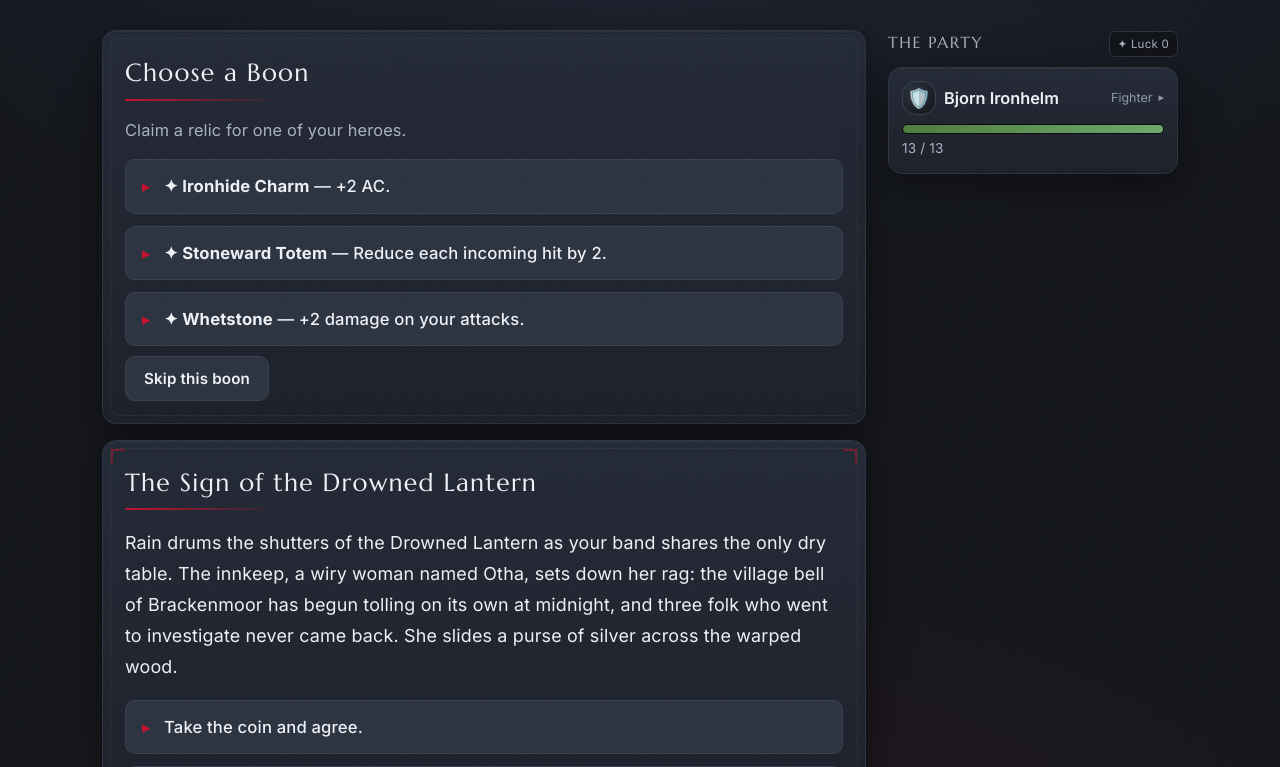
Test: GameScreen › a pending draft grants a relic to a chosen hero
Check: the heading "Choose a Boon" is shown, box [125,57,310,88]
What coordinates should you click on to do the following:
click the button "✦ Ironhide Charm — +2 AC."
I would click on:
 (246, 186)
Its box is [125,159,843,214].
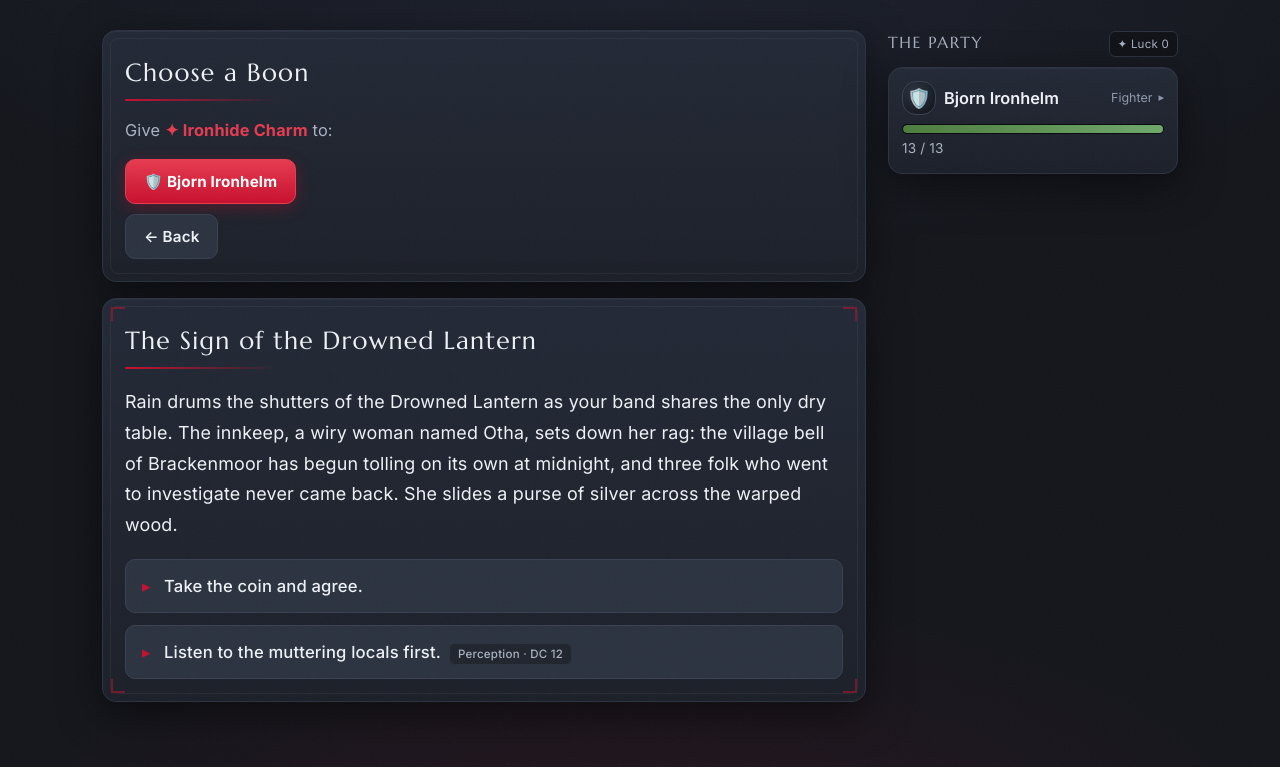
What coordinates should you click on to do the following:
click the button "🛡️ Bjorn Ironhelm"
I would click on:
 (211, 182)
Its box is [125,159,296,204].
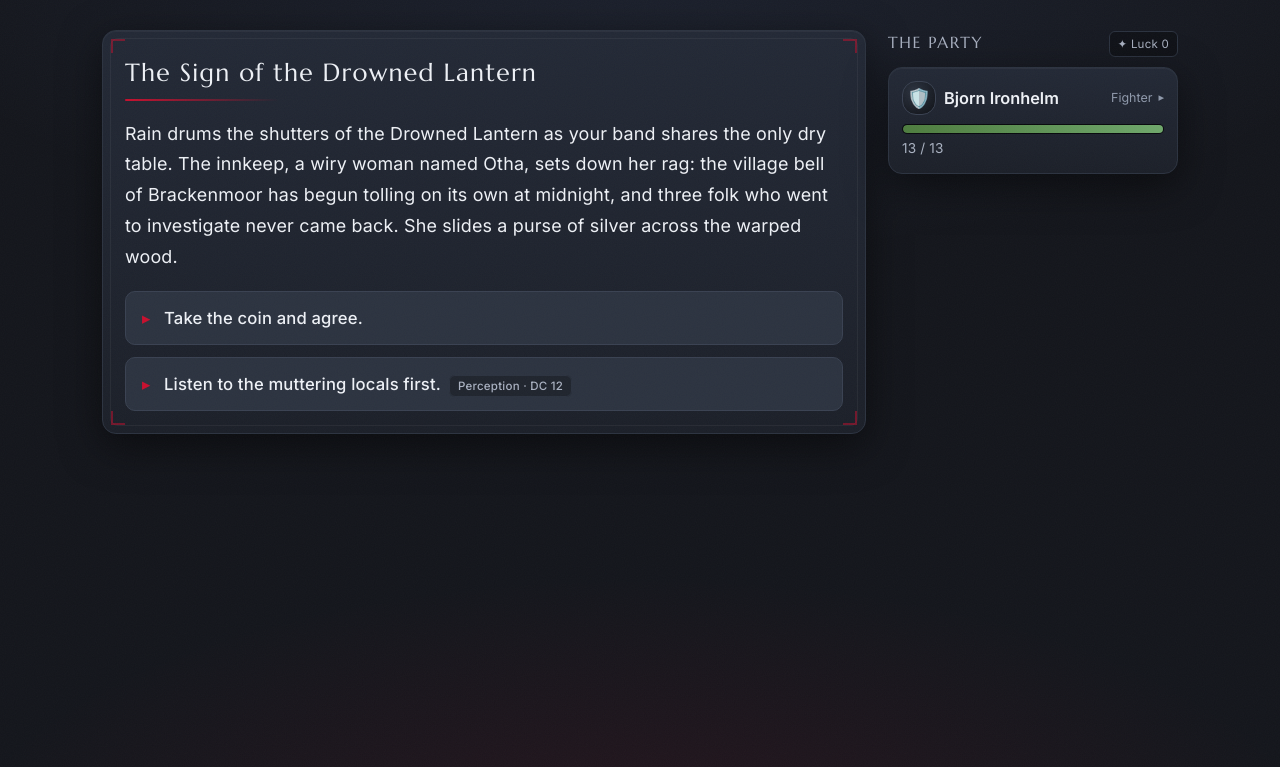
Check: the heading "Choose a Boon" is gone
